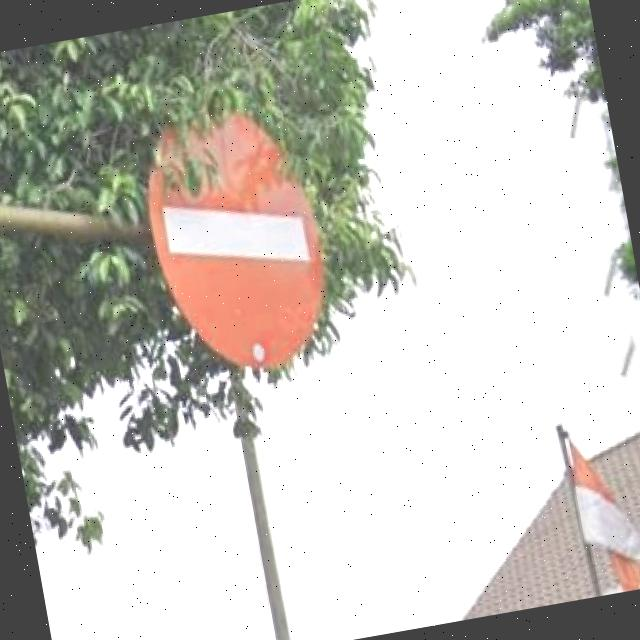Zakaz wjazdu: (132, 95, 343, 388)
